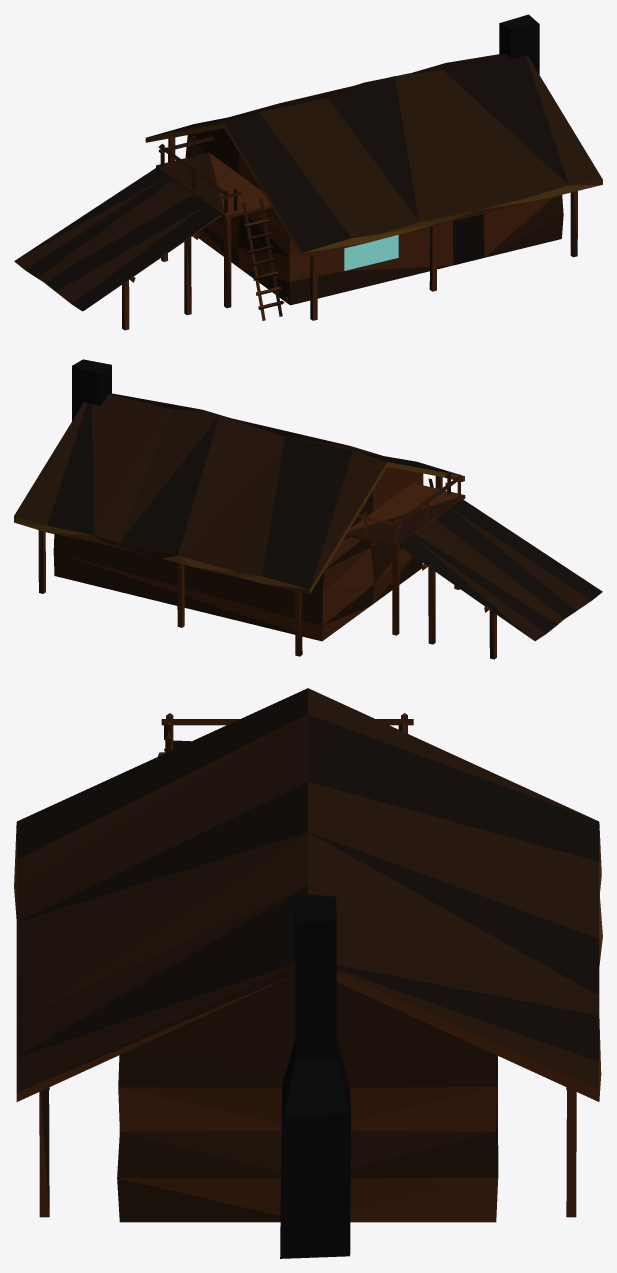
Rendered from House1.fbx.
3 renders of one model, top to bottom at view 1: azimuth 30°, elevation 25°; view 2: azimuth 150°, elevation 25°; view 3: azimuth 270°, elevation 25°, orthographic. The views are drawn at different scales.
Parts seen in each view (by area): view 1: House1; view 2: House1; view 3: House1.
Boxes of the visible parts, x1,y1,x2,y2 form: House1: (14, 14, 602, 330); House1: (14, 359, 602, 659); House1: (14, 688, 602, 1258).
Bounding box in the file's own units: 1698 × 564 × 922.
